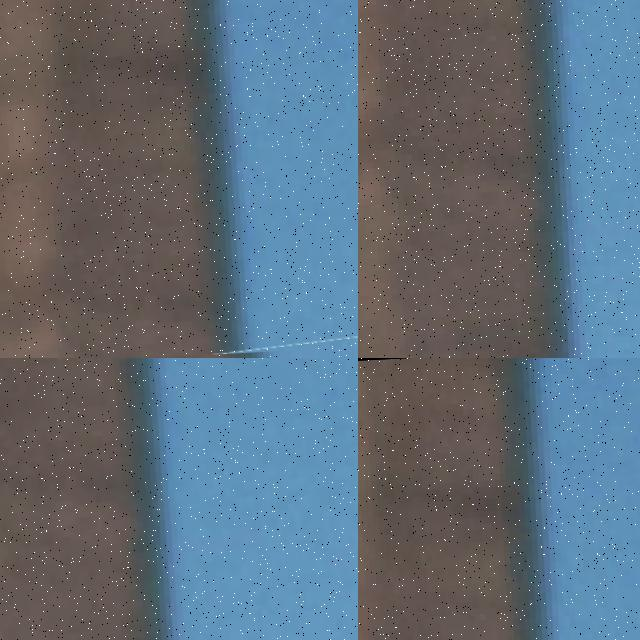0: (0, 0, 358, 358)
drone: (0, 358, 358, 640)
